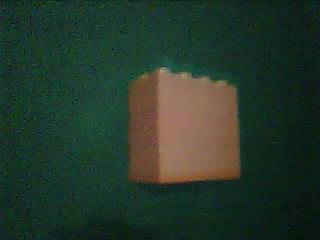lego: (126, 68, 243, 184)
